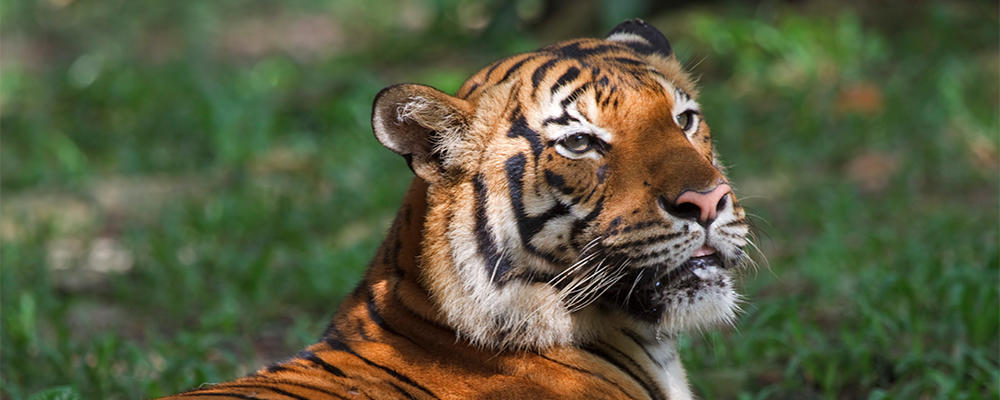Tiger: (213, 16, 804, 399)
